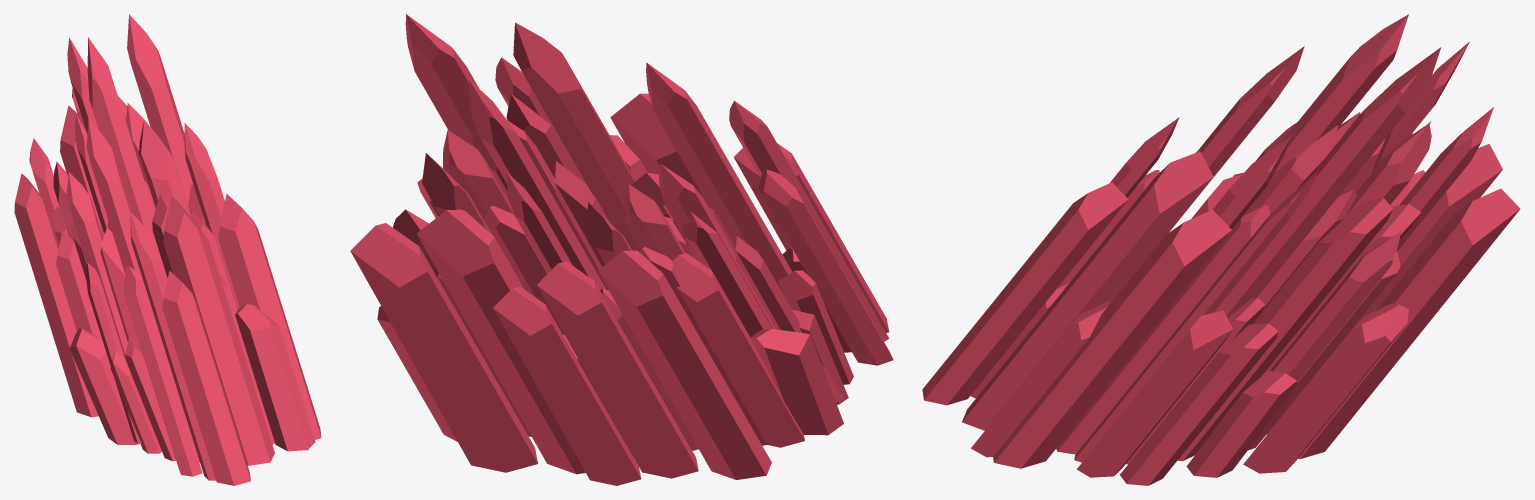
Rendered from SM_Crystal_Big_4.fbx.
The picture shows the model from 3 angles, left to right: view 1: azimuth 30°, elevation 25°; view 2: azimuth 150°, elevation 25°; view 3: azimuth 270°, elevation 25°; orthographic projection. The views are drawn at different scales.
Visible parts, largest first — view 1: SM_Crystal_Big_4; view 2: SM_Crystal_Big_4; view 3: SM_Crystal_Big_4.
Part boxes in pixels (x1,y1,x2,y2): SM_Crystal_Big_4: (14,14,321,485); SM_Crystal_Big_4: (350,14,893,485); SM_Crystal_Big_4: (922,14,1520,485).
Bounding box in the file's own units: 616 × 870 × 1175.
